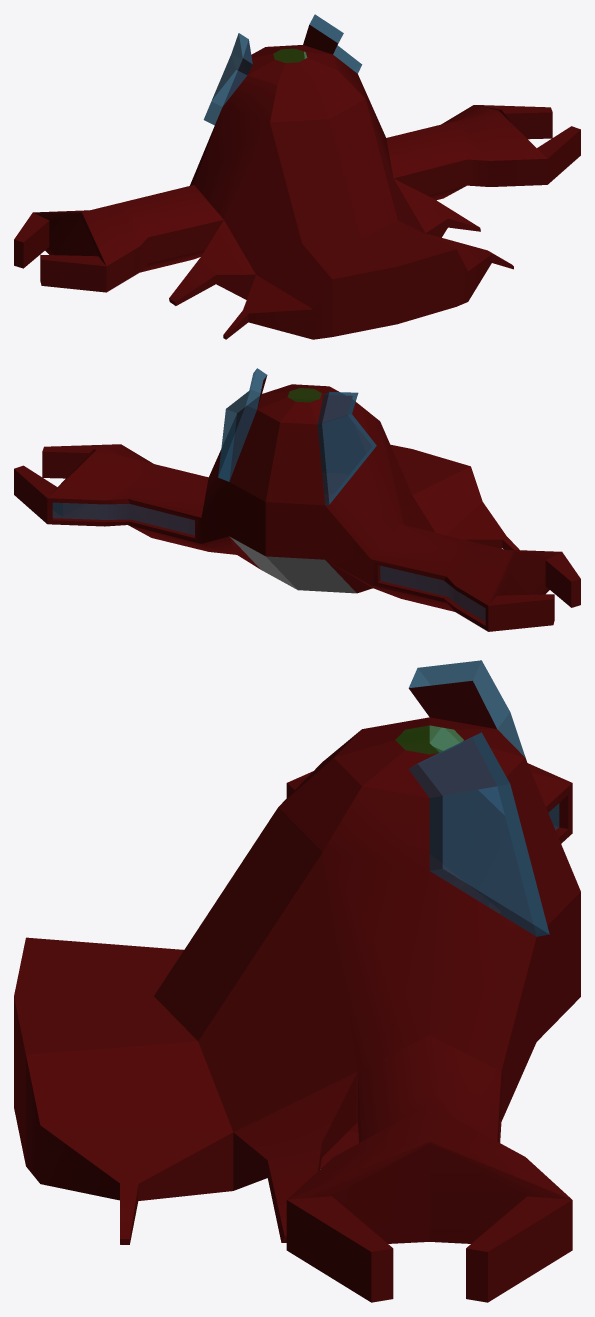
The model's file is City_crab_hall.dae.
3 renders of one model, top to bottom at view 1: azimuth 30°, elevation 25°; view 2: azimuth 150°, elevation 25°; view 3: azimuth 270°, elevation 25°, orthographic. The views are drawn at different scales.
Parts seen in each view (by area): view 1: pCylinder1; view 2: pCylinder1; view 3: pCylinder1.
Part boxes in pixels (x1=…): pCylinder1: x1=14, y1=14, x2=580, y2=339; pCylinder1: x1=14, y1=368, x2=580, y2=631; pCylinder1: x1=14, y1=660, x2=580, y2=1302.
Size of the model in its own units: 7.95 by 3.02 by 3.75.
